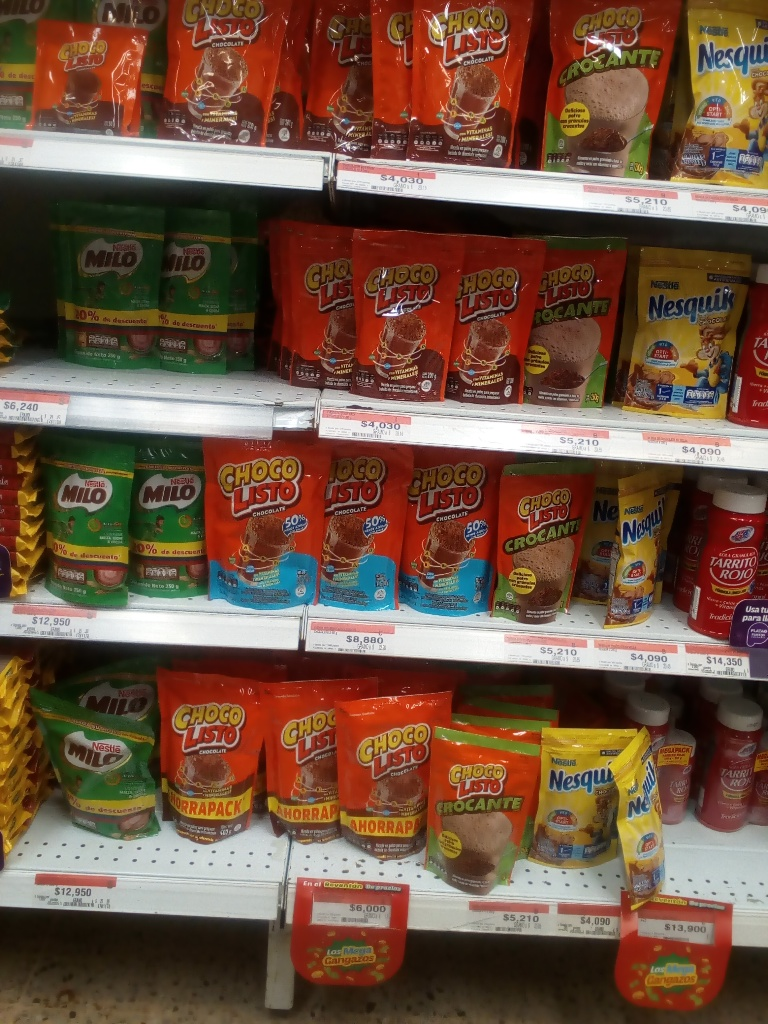COL0170103SOB02000: (34, 27, 154, 130)
COL0170104DYP20000: (200, 435, 331, 611)
COL0170303DYP20000: (680, 0, 766, 191)
